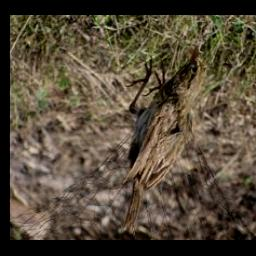Sparrow: (119, 43, 205, 238)
